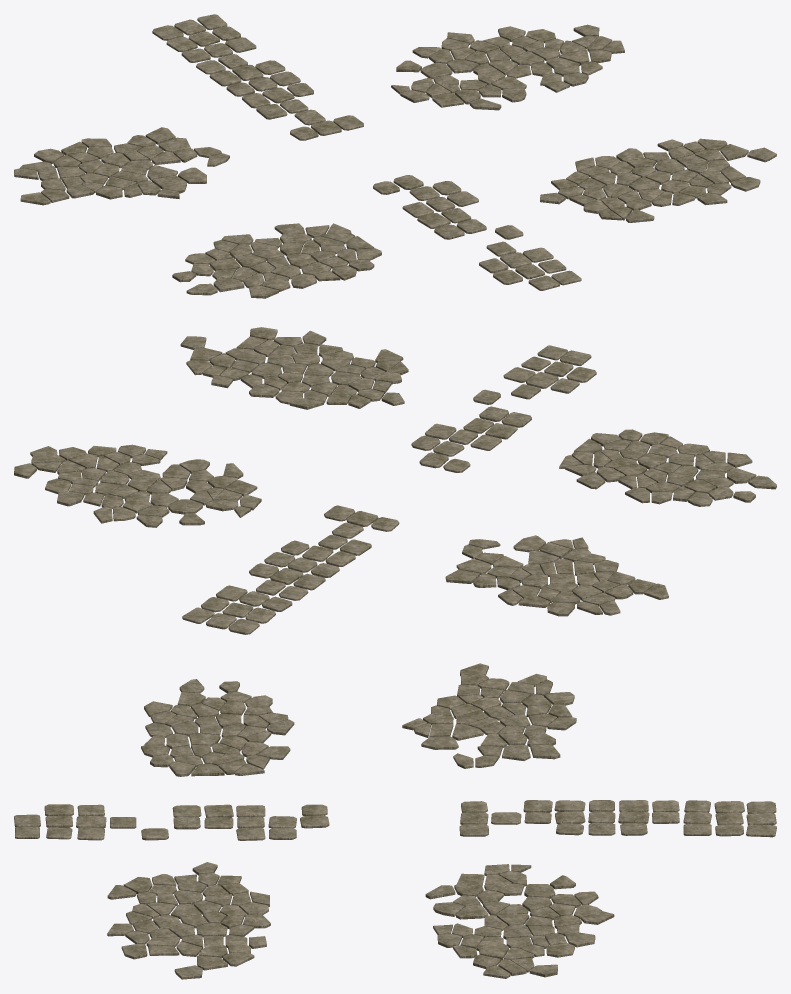
The model's file is paving.glb.
3 views of the same model, one above another, from view 1: azimuth 30°, elevation 25°; view 2: azimuth 150°, elevation 25°; view 3: azimuth 270°, elevation 25° (orthographic). The views are drawn at different scales.
Parts seen in each view (by area): view 1: Processional road and buried courts; view 2: Processional road and buried courts; view 3: Processional road and buried courts.
Part boxes in pixels (x1,y1,x2,y2): Processional road and buried courts: (14,14,776,298); Processional road and buried courts: (14,327,776,634); Processional road and buried courts: (14,663,776,979).
Bounding box in the file's own units: 31.39 × 0.158 × 32.27.
Materials: 1 (1 with a texture image).
